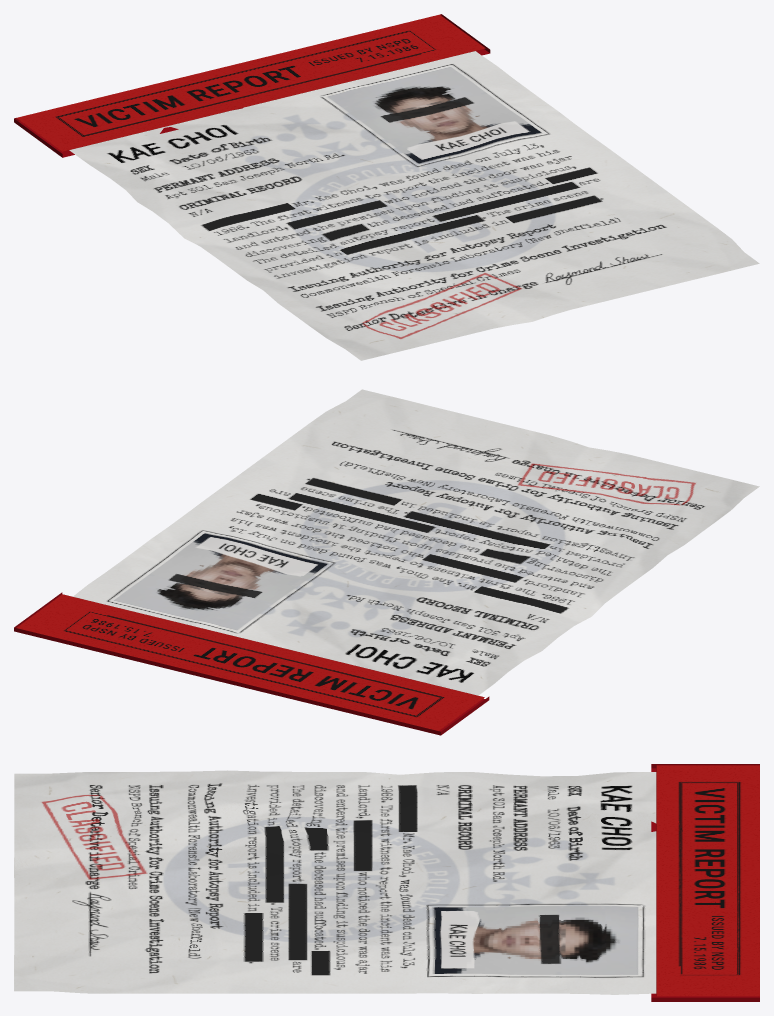
The model's file is victimRe2.fbx.
The picture shows the model from 3 angles, top to bottom: view 1: azimuth 30°, elevation 25°; view 2: azimuth 150°, elevation 25°; view 3: azimuth 270°, elevation 25°; orthographic projection. The views are drawn at different scales.
Parts seen in each view (by area): view 1: Plane, Plane.001; view 2: Plane, Plane.001; view 3: Plane, Plane.001.
Part boxes in pixels (bbox=[...]): Plane: bbox=[69, 51, 759, 360]; Plane.001: bbox=[14, 14, 490, 157]; Plane: bbox=[73, 389, 759, 695]; Plane.001: bbox=[14, 592, 489, 735]; Plane: bbox=[14, 770, 656, 994]; Plane.001: bbox=[651, 764, 759, 1001].
Bounding box in the file's own units: 1252 × 24.4 × 1691.
Materials: 3 (2 with a texture image).
